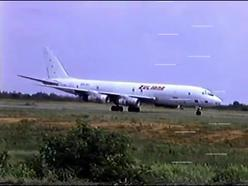aircraft: (16, 46, 223, 115)
